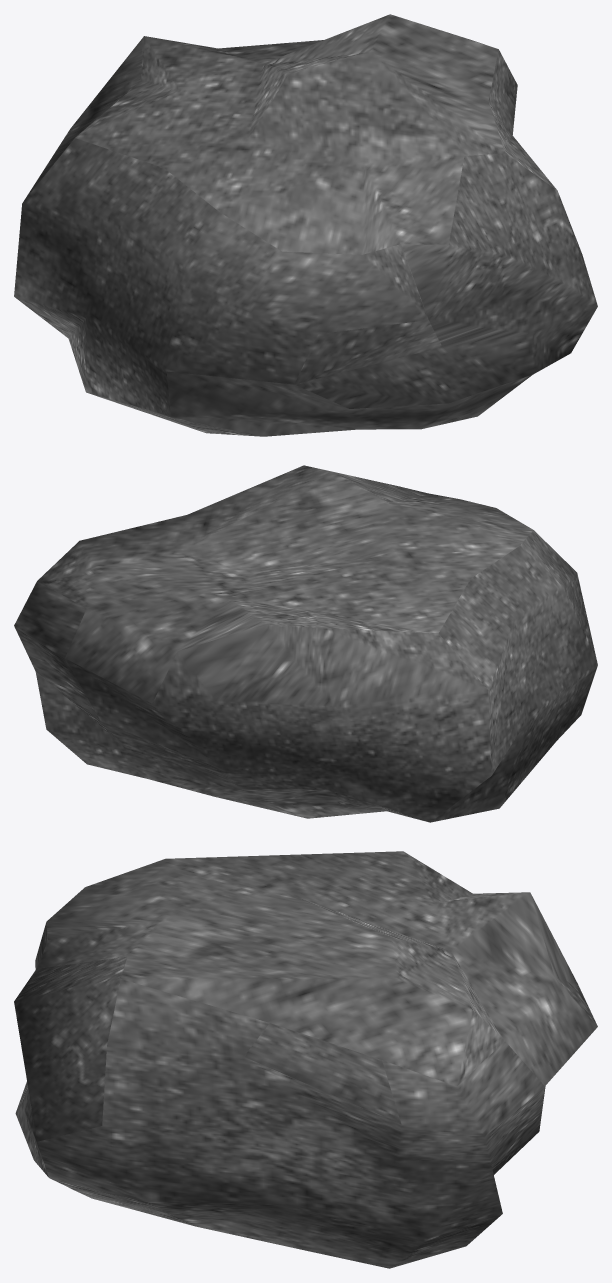
Rendered from rock2.FBX.
3 views of the same model, one above another, from view 1: azimuth 30°, elevation 25°; view 2: azimuth 150°, elevation 25°; view 3: azimuth 270°, elevation 25° (orthographic). The views are drawn at different scales.
Parts seen in each view (by area): view 1: default; view 2: default; view 3: default.
Boxes of the visible parts, x1,y1,x2,y2 form: default: (14,14,597,436); default: (14,465,597,822); default: (14,851,597,1268).
Size of the model in its own units: 257 by 132 by 256.
